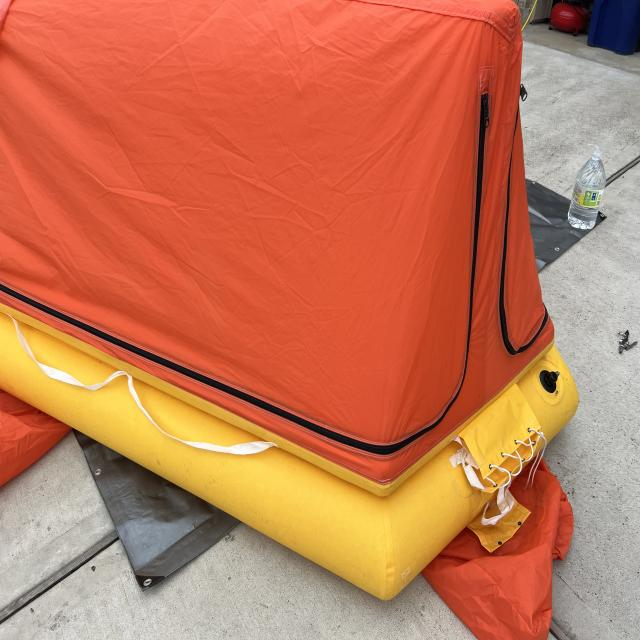Multi-person_life_raft: (0, 0, 578, 639)
